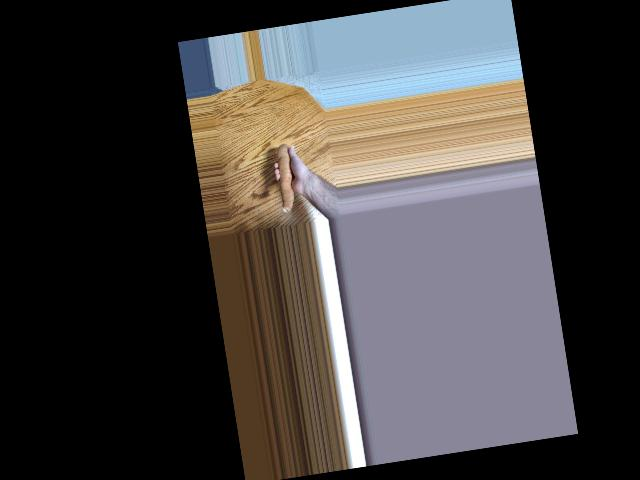sweet_potato: (274, 145, 304, 214)
